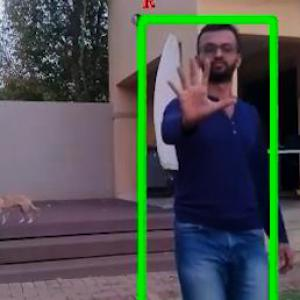follow_hand: (160, 49, 240, 127)
